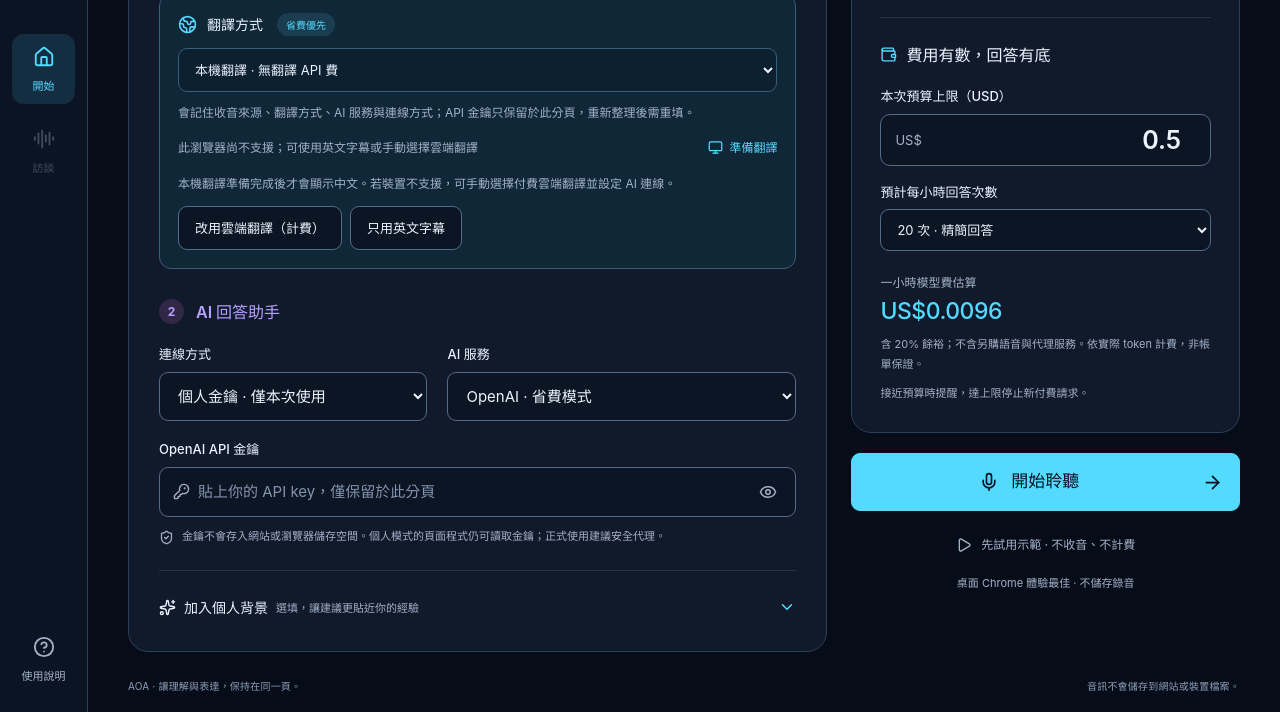
Test case: translation readiness before starting › offers explicit cloud mode after a failed preparation, preserves the key, and waits for Start
This screenshot has width=1280, height=712.
(page scrolled)
In the password field labelled "OpenAI API 金鑰": point(470, 492) [198,468,741,516], type "test-only-key"
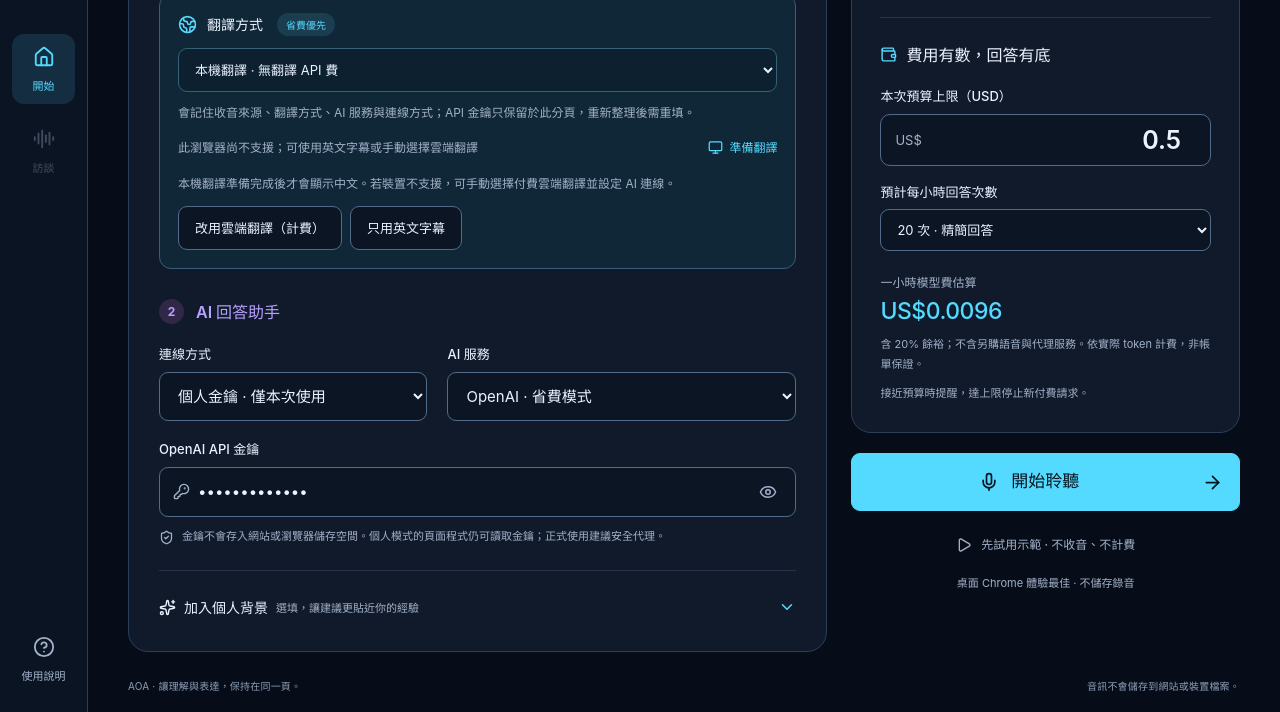
Click the button "開始聆聽": point(1046, 482) [851,453,1240,511]
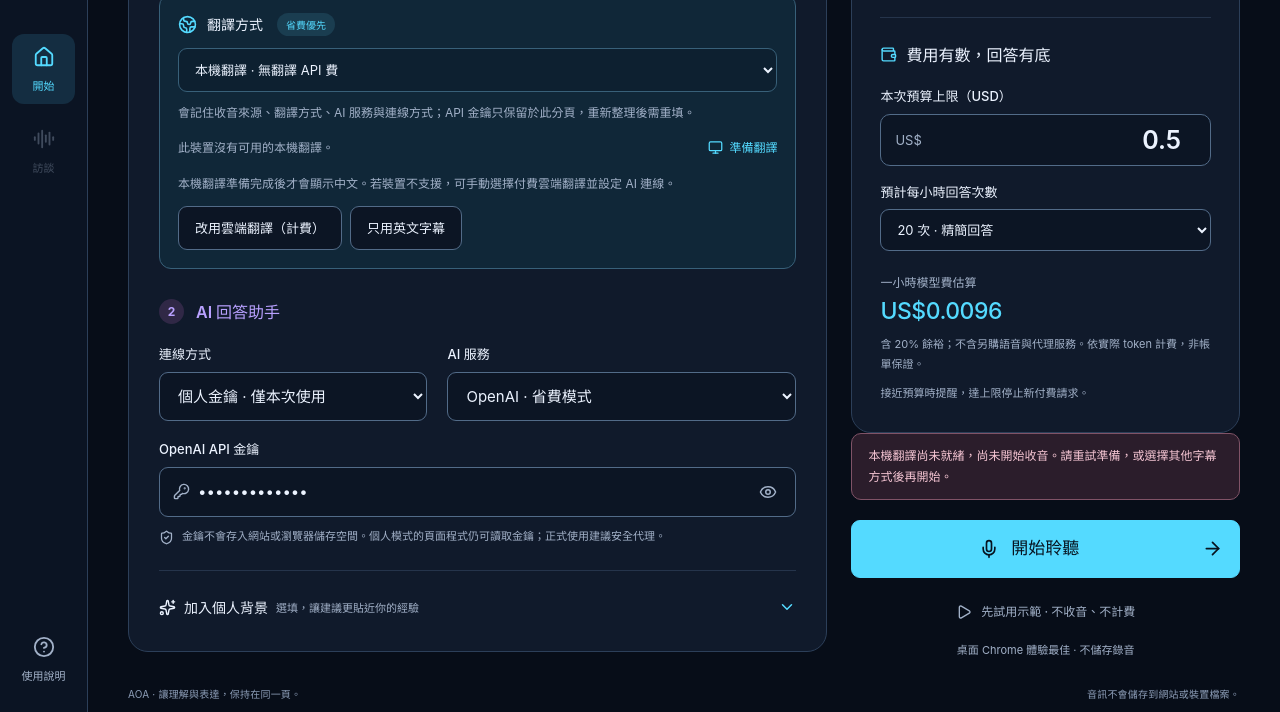
Click the button "改用雲端翻譯（計費）": point(260, 228) [178,206,342,250]
(page scrolled)
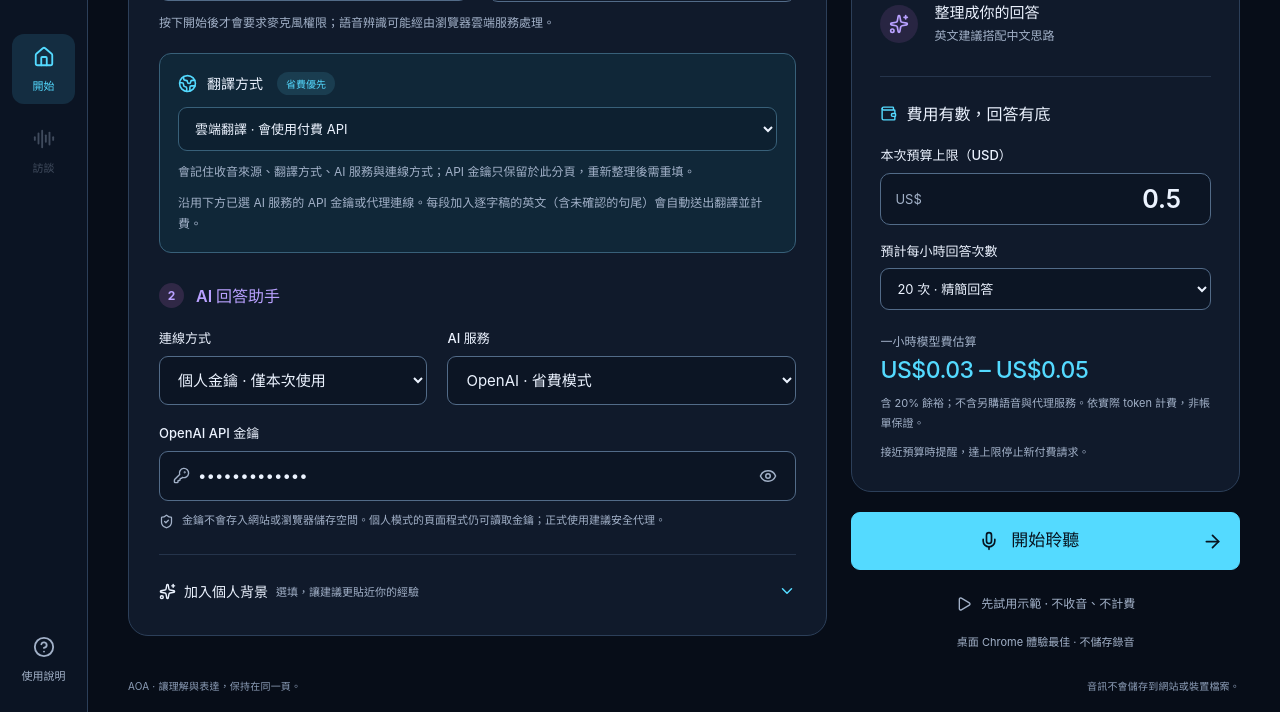
Check: the dropdown labelled "翻譯方式" shows "雲端翻譯 · 會使用付費 API", box [178,107,777,151]
Click the button "開始聆聽": point(1046, 541) [851,512,1240,570]
(page scrolled)
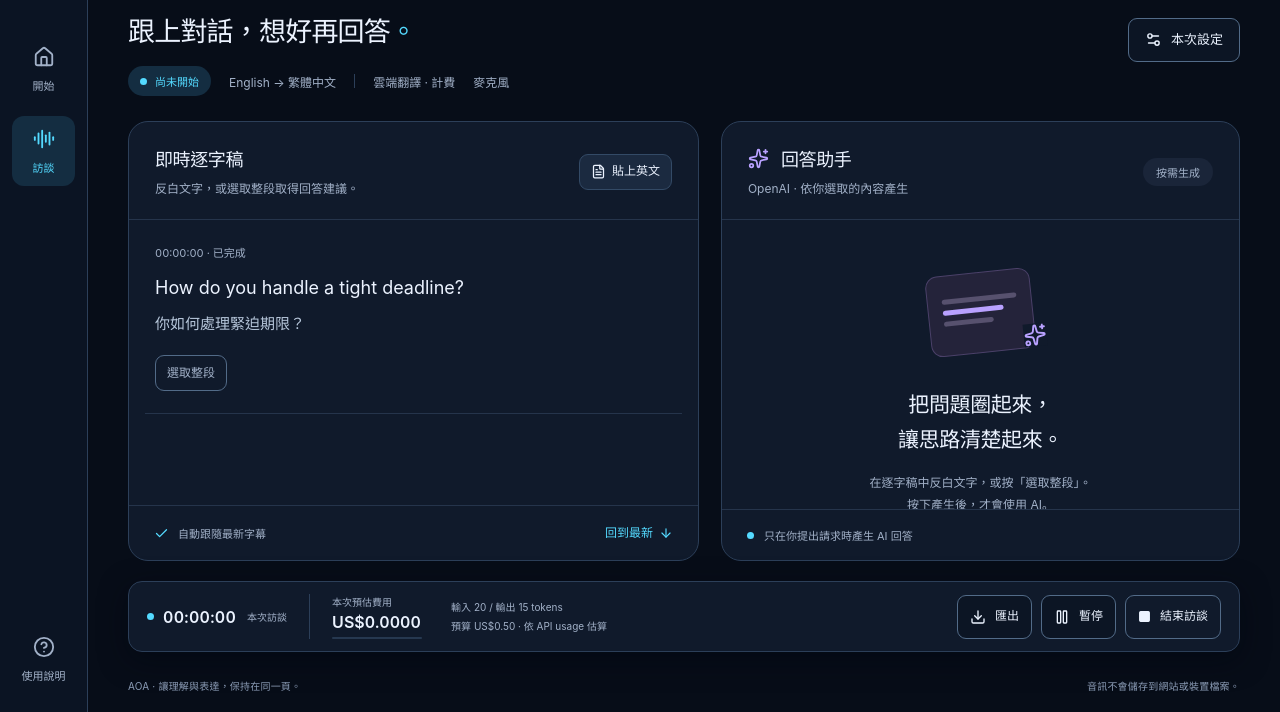
Check: the text "你如何處理緊迫期限？" is shown, box [155,314,305,334]
